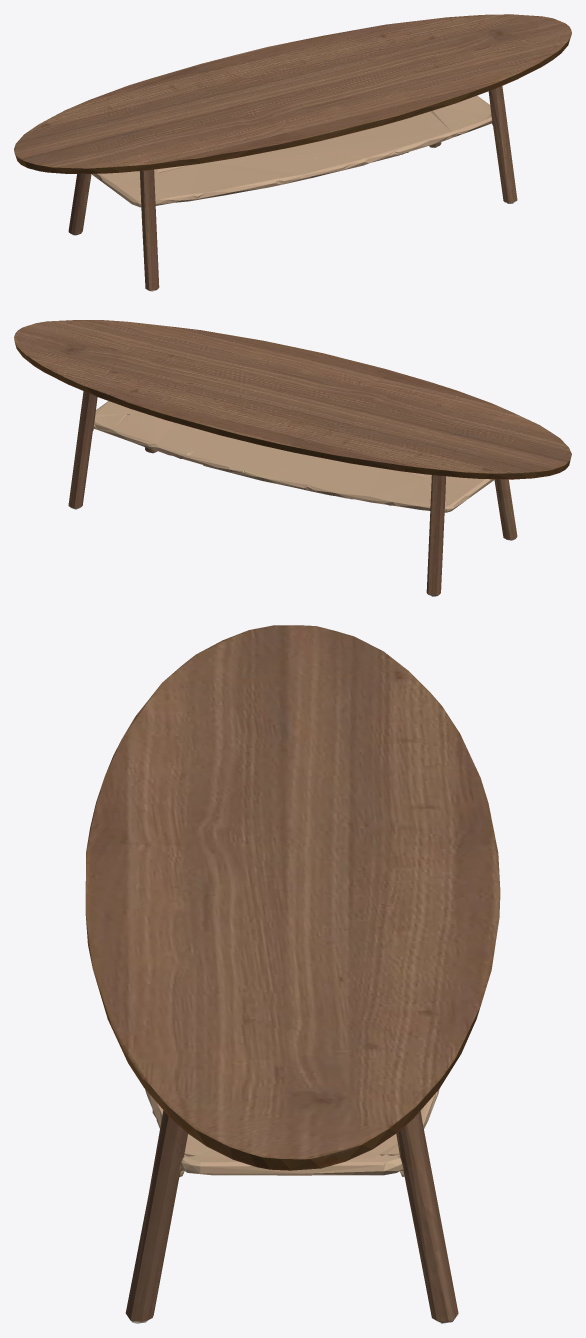
The picture shows the model from 3 angles, top to bottom: view 1: azimuth 30°, elevation 25°; view 2: azimuth 150°, elevation 25°; view 3: azimuth 270°, elevation 25°; orthographic projection. The views are drawn at different scales.
Visible parts, largest first — view 1: ProcessedGeometry; view 2: ProcessedGeometry; view 3: ProcessedGeometry.
Boxes of the visible parts, <box> form: ProcessedGeometry: <box>14,14,571,291</box>; ProcessedGeometry: <box>14,320,571,596</box>; ProcessedGeometry: <box>85,625,500,1323</box>.
Size of the model in its own units: 1.8 by 0.3999 by 0.59.
Materials: 1 (1 with a texture image).
